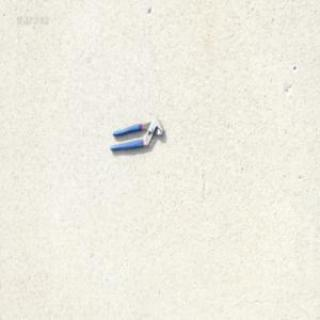Pliertrack_idkeyframe: (109, 116, 164, 152)
